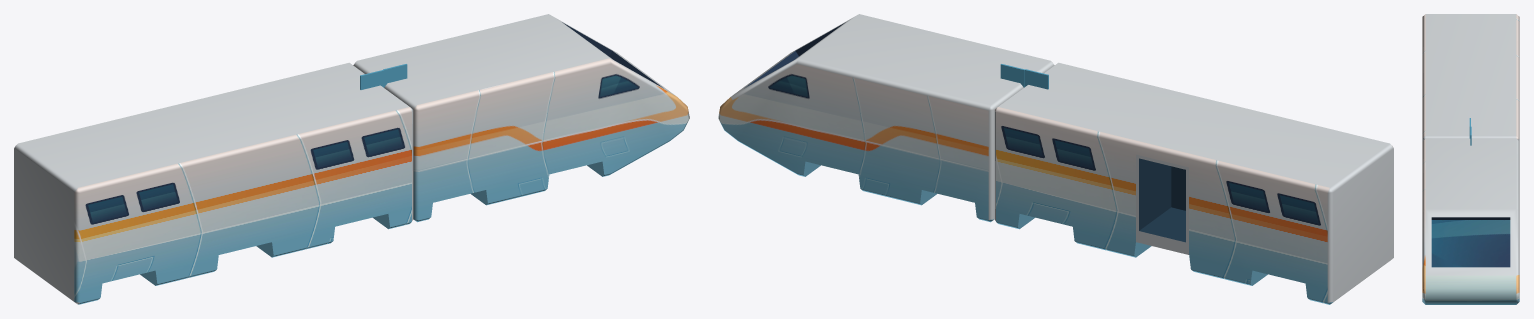
File: train.fbx
The picture shows the model from 3 angles, left to right: view 1: azimuth 30°, elevation 25°; view 2: azimuth 150°, elevation 25°; view 3: azimuth 270°, elevation 25°; orthographic projection. The views are drawn at different scales.
Visible parts, largest first — view 1: Cube.001, Cube; view 2: Cube.001, Cube; view 3: Cube, Cube.001.
Part boxes in pixels (x1,y1,x2,y2): Cube.001: (14,62,413,304); Cube: (353,14,689,222); Cube.001: (994,62,1393,304); Cube: (718,14,1054,222); Cube: (1422,138,1519,304); Cube.001: (1422,14,1519,141).
Size of the model in its own units: 1675 by 341 by 305.
